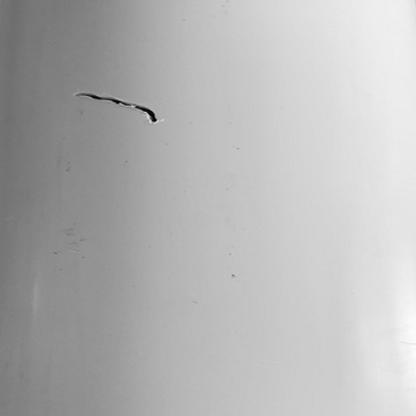fengxi: (70, 93, 160, 125)
